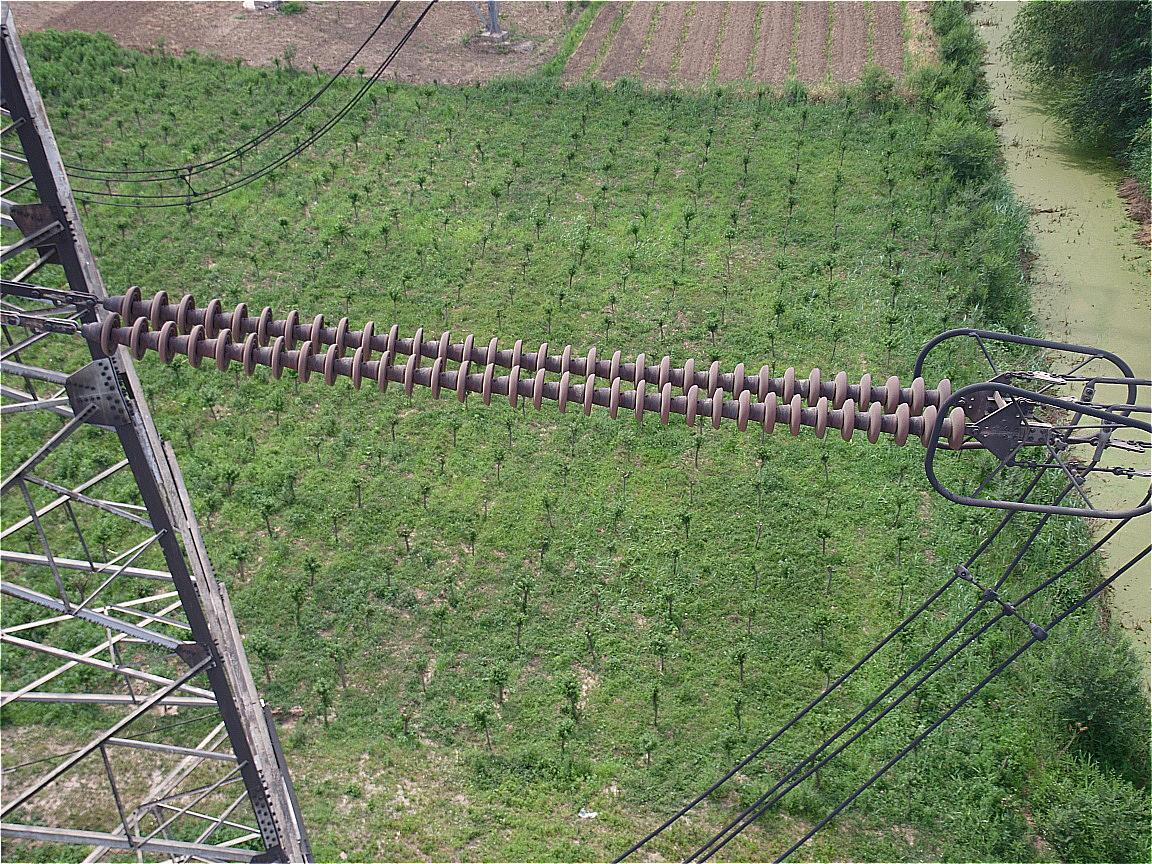insultor1: (82, 274, 997, 465)
